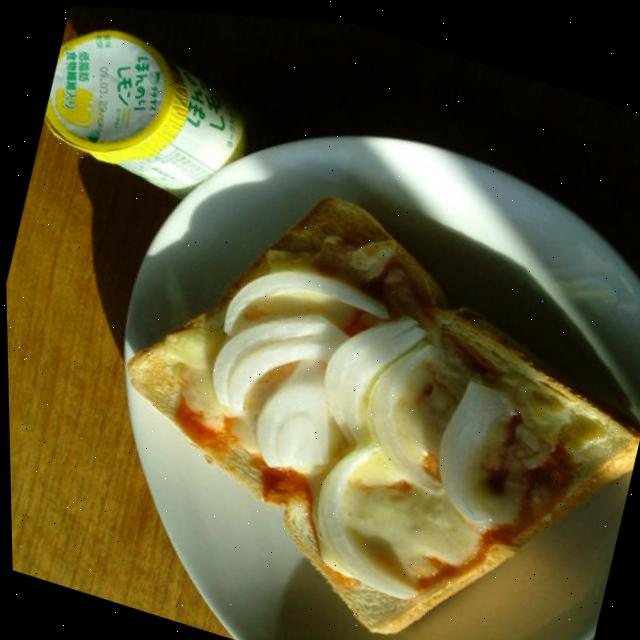面包点心: (56, 67, 640, 640)
